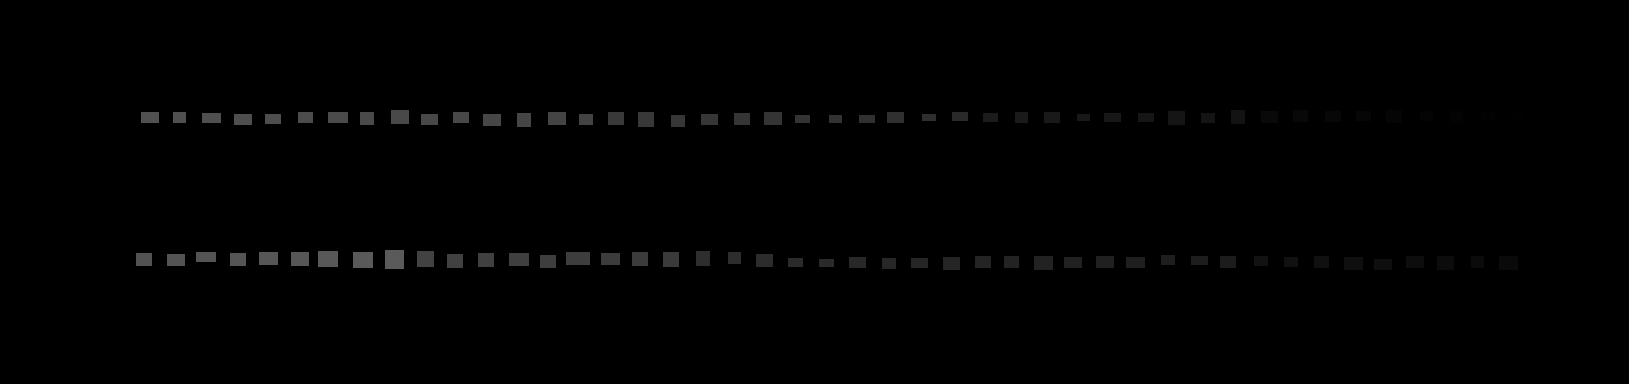light: (385, 250, 404, 269), (318, 251, 338, 267), (353, 252, 373, 268), (566, 252, 590, 265), (417, 251, 434, 267), (1034, 256, 1053, 270), (1499, 256, 1518, 270), (391, 110, 409, 124), (509, 253, 529, 266), (259, 252, 278, 265), (638, 112, 655, 127), (663, 252, 679, 267), (1437, 256, 1454, 270), (1168, 111, 1185, 125), (291, 252, 309, 266), (1344, 257, 1363, 270), (764, 112, 782, 125), (548, 112, 566, 125), (600, 253, 620, 265), (328, 112, 348, 124), (1386, 110, 1403, 124), (632, 252, 648, 266), (478, 253, 495, 267), (447, 254, 463, 268), (1406, 256, 1424, 268), (1261, 111, 1278, 124), (943, 257, 960, 270), (756, 254, 773, 267), (608, 112, 624, 125), (230, 253, 246, 266), (202, 113, 221, 124), (1096, 256, 1114, 268), (483, 114, 501, 126), (141, 112, 159, 124), (167, 254, 185, 266), (696, 251, 710, 266), (1126, 257, 1145, 268), (540, 255, 556, 268), (234, 114, 252, 125), (136, 253, 152, 266), (1325, 111, 1341, 122), (1220, 256, 1236, 268), (974, 256, 991, 268), (887, 112, 904, 124), (196, 252, 216, 262), (1374, 259, 1392, 270), (1064, 257, 1081, 268), (849, 257, 866, 268), (421, 114, 438, 125), (1231, 110, 1245, 124), (517, 113, 531, 127), (1293, 110, 1308, 122), (1044, 112, 1060, 124), (1004, 256, 1019, 268), (735, 113, 750, 125), (453, 112, 469, 124), (701, 114, 718, 125), (360, 112, 374, 125), (1314, 256, 1329, 268), (298, 112, 313, 124), (1356, 111, 1371, 121), (1450, 111, 1463, 124), (1138, 113, 1154, 122), (1104, 113, 1121, 122), (911, 258, 928, 268), (952, 112, 968, 121), (1015, 112, 1029, 124), (671, 115, 685, 127), (1201, 113, 1216, 124), (579, 114, 593, 125), (1191, 256, 1208, 265), (983, 113, 998, 122), (265, 114, 281, 124), (1471, 256, 1484, 268), (728, 252, 741, 264), (173, 112, 186, 124), (1511, 111, 1524, 121), (1481, 111, 1495, 121), (882, 258, 896, 269), (1254, 256, 1269, 266), (1420, 111, 1433, 121), (787, 258, 803, 267), (859, 115, 875, 124), (795, 115, 810, 124), (1284, 257, 1298, 267), (1161, 255, 1175, 265), (819, 259, 834, 267), (922, 114, 936, 121), (829, 115, 842, 124), (1077, 114, 1090, 121)
